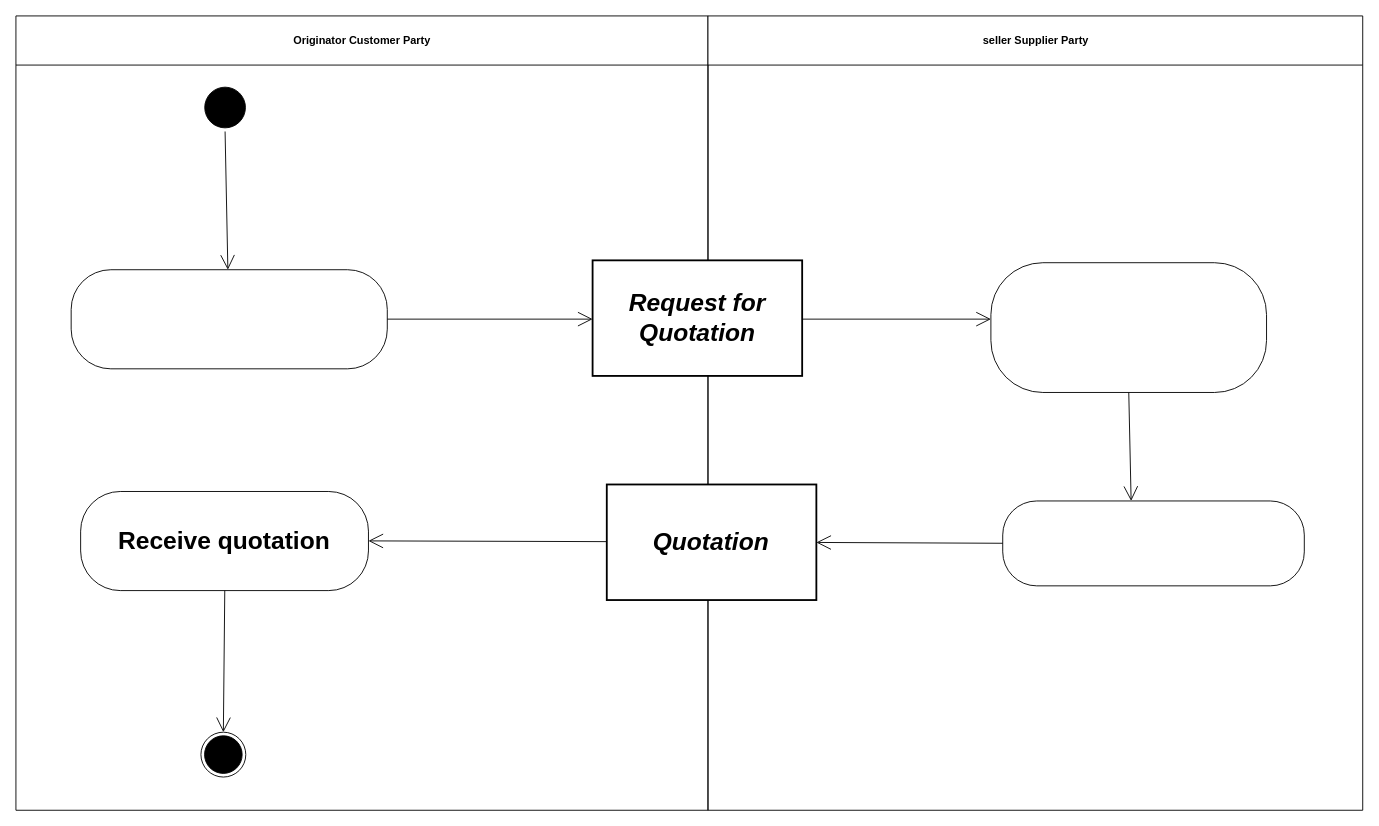
Image size: 1379x826. Some labels were removed from this diagram. The centre of each missing label's shape, as x and y in pixels:
"Receive request for quotation" goes at [1128,327].
"Send quotation" goes at [1153,543].
"Send request for Quotation" goes at [228,319].
